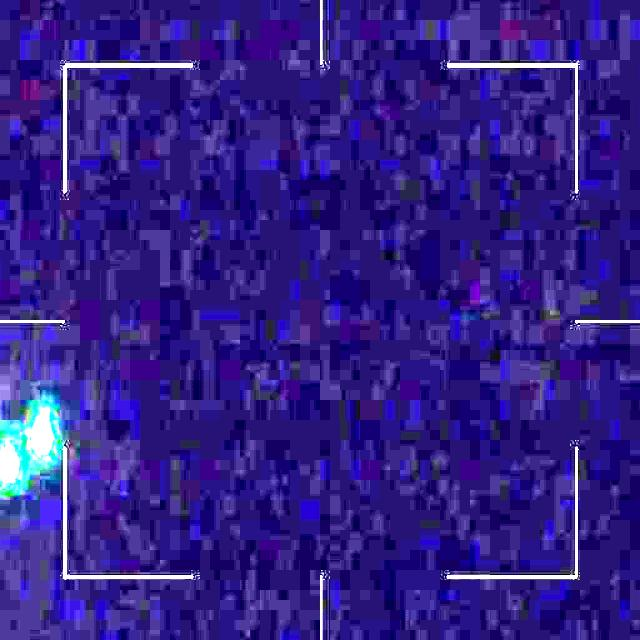bird: (0, 404, 52, 490)
